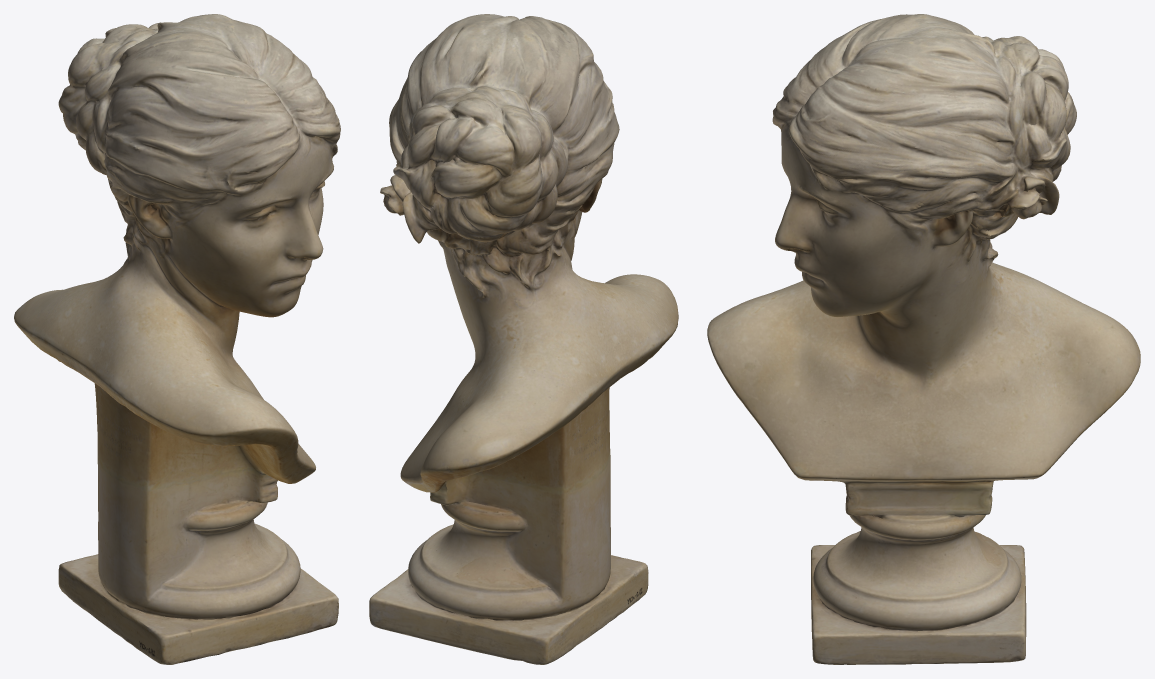
File: head.glb
3 renders of one model, left to right at view 1: azimuth 30°, elevation 25°; view 2: azimuth 150°, elevation 25°; view 3: azimuth 270°, elevation 25°, orthographic. The views are drawn at different scales.
Parts seen in each view (by area): view 1: Object_3; view 2: Object_3; view 3: Object_3.
Boxes of the visible parts, x1=… form: Object_3: x1=14, y1=14, x2=340, y2=664; Object_3: x1=369, y1=14, x2=678, y2=664; Object_3: x1=707, y1=14, x2=1140, y2=664.
Size of the model in its own units: 1.36 by 3.36 by 2.21.
1 material, 1 textured.
